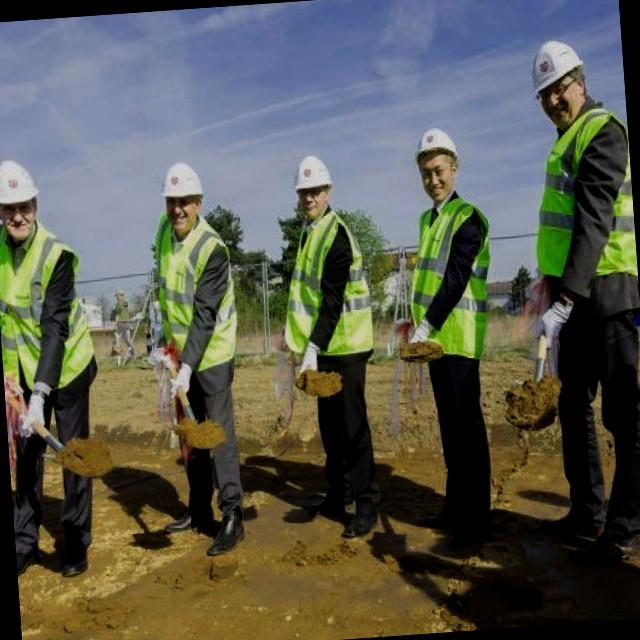vest: (140, 197, 258, 407), (266, 203, 391, 390), (0, 206, 109, 419), (393, 180, 508, 380)
